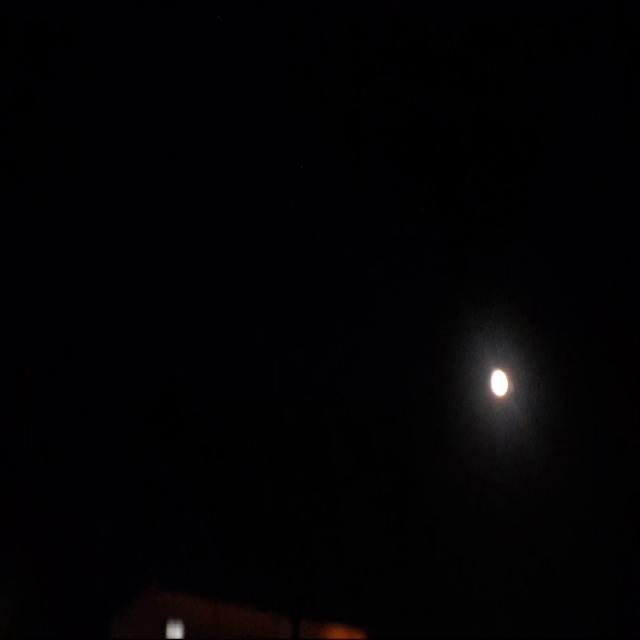moon: (486, 363, 509, 397)
